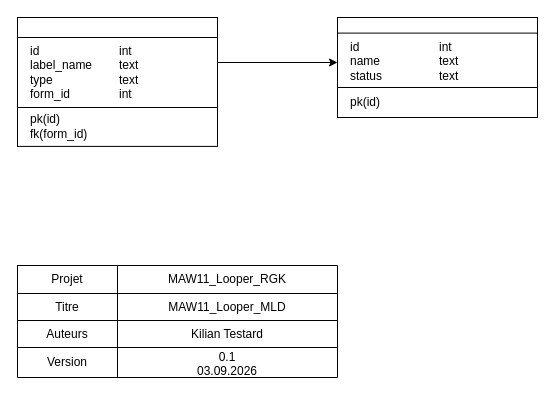
This 555x395 diagram has some shape labels left out. The centre of each missing label's shape, as x and y in pixels:
forms: pixel 437 24
labels: pixel 117 27
